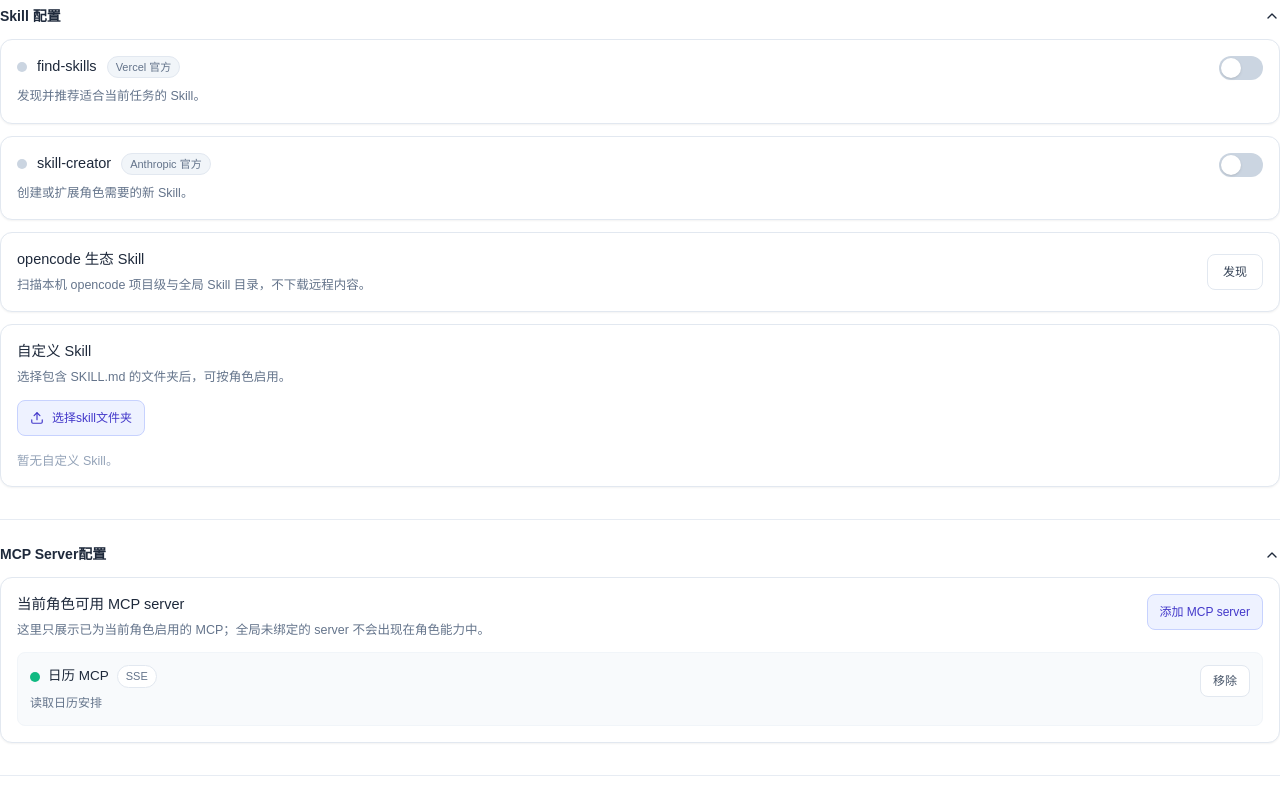
SettingsTab role CRUD actions › 可从当前角色移除已启用 MCP，不影响全局配置
(page scrolled)
Expected: the text "日历 MCP" is shown, [48,666,109,687]
Click the button with aria-label "移除 日历 MCP". click: (1225, 681)
box: [1200,665,1250,697]
(page scrolled)
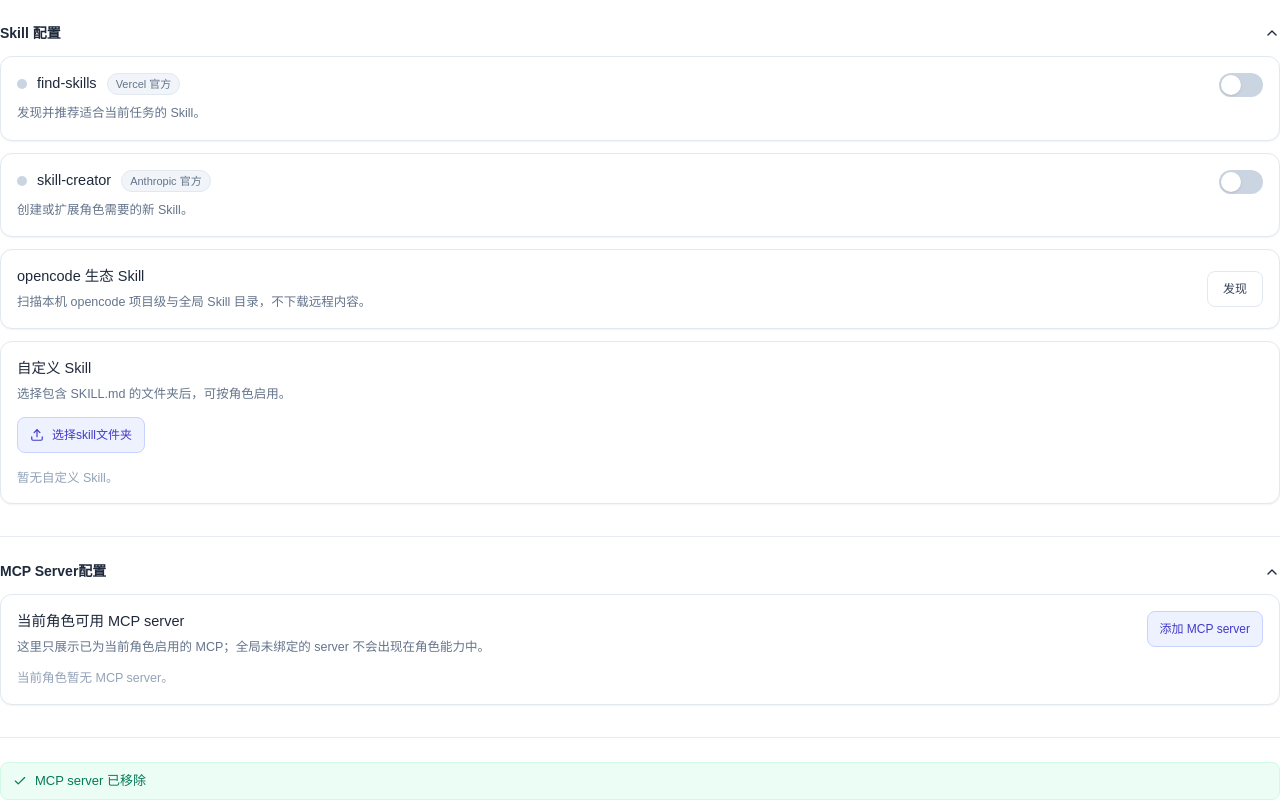
Expected: the text "日历 MCP" is gone
